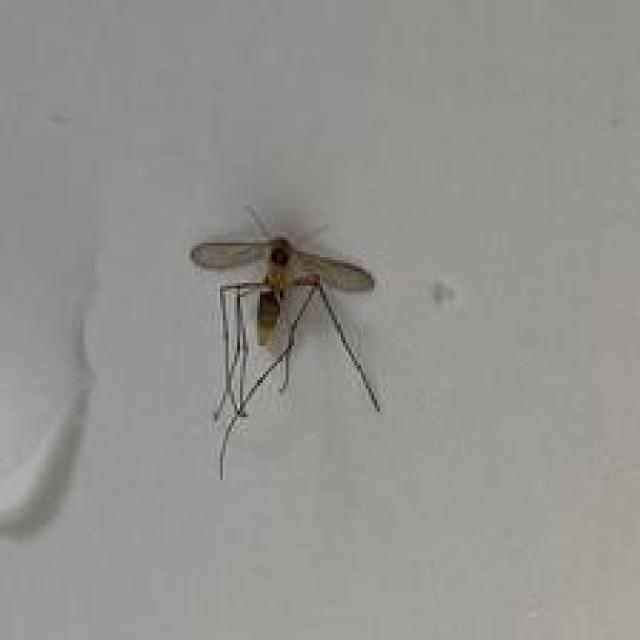Culex: (188, 204, 383, 479)
